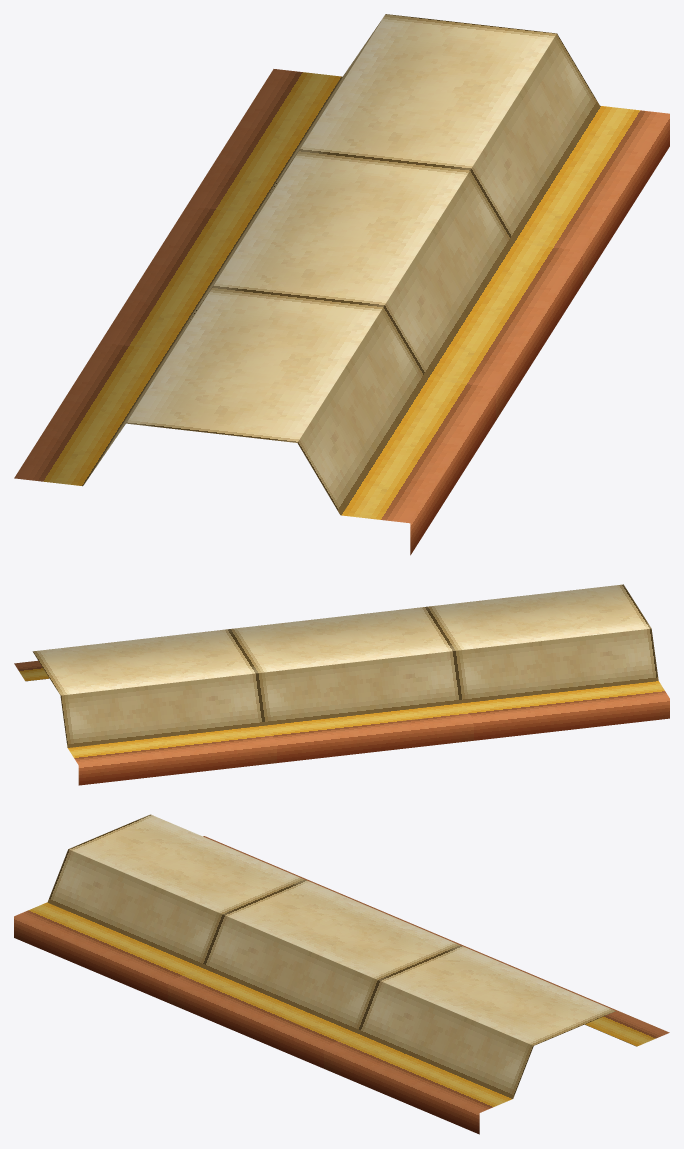
File: a_SEblockB03.glb
3 renders of one model, top to bottom at view 1: azimuth 30°, elevation 25°; view 2: azimuth 150°, elevation 25°; view 3: azimuth 270°, elevation 25°, orthographic. The views are drawn at different scales.
Visible parts, largest first — view 1: a_SEblockB03; view 2: a_SEblockB03; view 3: a_SEblockB03.
Part boxes in pixels (x1,y1,x2,y2): a_SEblockB03: (14, 14, 669, 555); a_SEblockB03: (14, 584, 669, 785); a_SEblockB03: (14, 814, 669, 1134).
Size of the model in its own units: 1.41 by 0.1558 by 1.41.
Materials: 1 (1 with a texture image).
